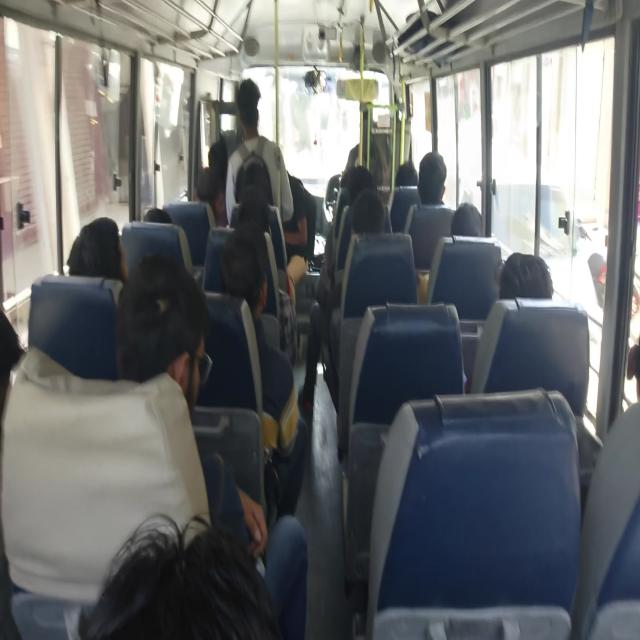person: (103, 516, 280, 640), (110, 299, 215, 388), (59, 212, 136, 283), (497, 250, 556, 311), (612, 330, 640, 457), (216, 239, 271, 296), (236, 80, 272, 143), (0, 306, 21, 411), (454, 206, 498, 254), (424, 152, 466, 199), (241, 165, 273, 217), (339, 159, 384, 195), (235, 198, 278, 234), (354, 190, 387, 233), (137, 209, 174, 238), (194, 172, 224, 207), (206, 142, 237, 171), (396, 157, 425, 177), (341, 161, 358, 178)
